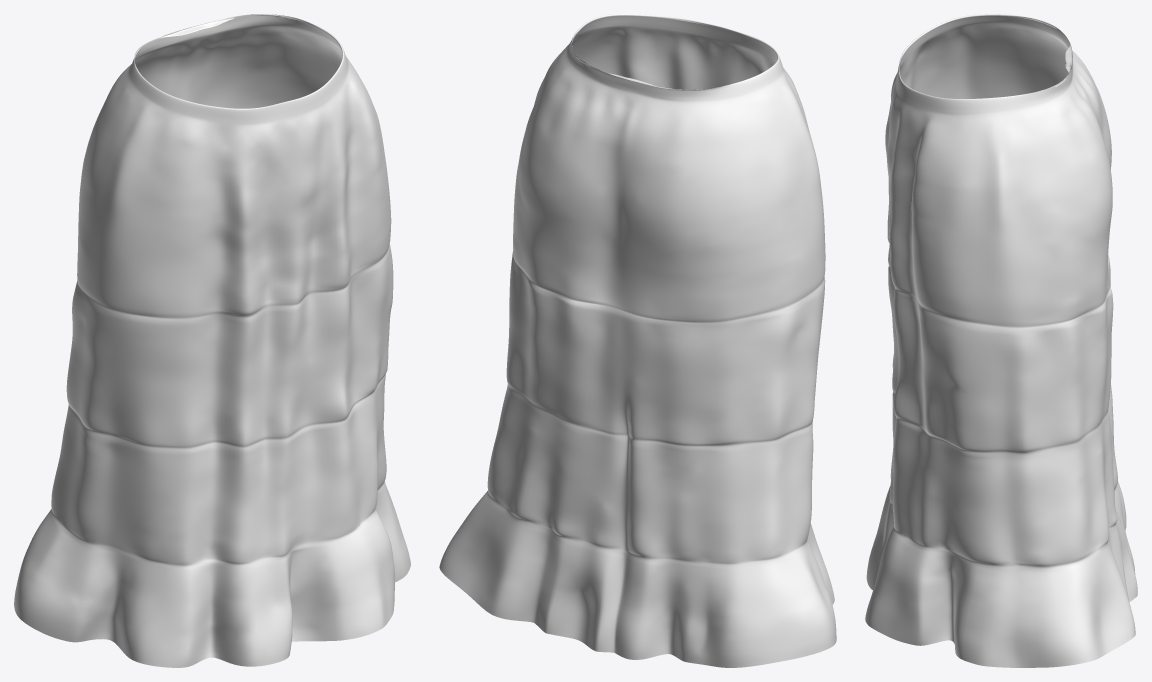
File: Skirt.glb
3 renders of one model, left to right at view 1: azimuth 30°, elevation 25°; view 2: azimuth 150°, elevation 25°; view 3: azimuth 270°, elevation 25°, orthographic. The views are drawn at different scales.
Parts seen in each view (by area): view 1: BardotSkirt_8467.001; view 2: BardotSkirt_8467.001; view 3: BardotSkirt_8467.001.
Boxes of the visible parts, x1,y1,x2,y2 form: BardotSkirt_8467.001: (14, 14, 410, 667); BardotSkirt_8467.001: (439, 14, 836, 667); BardotSkirt_8467.001: (865, 14, 1137, 667).
Size of the model in its own units: 12 by 16.98 by 7.73.
Materials: 1 (1 with a texture image).
